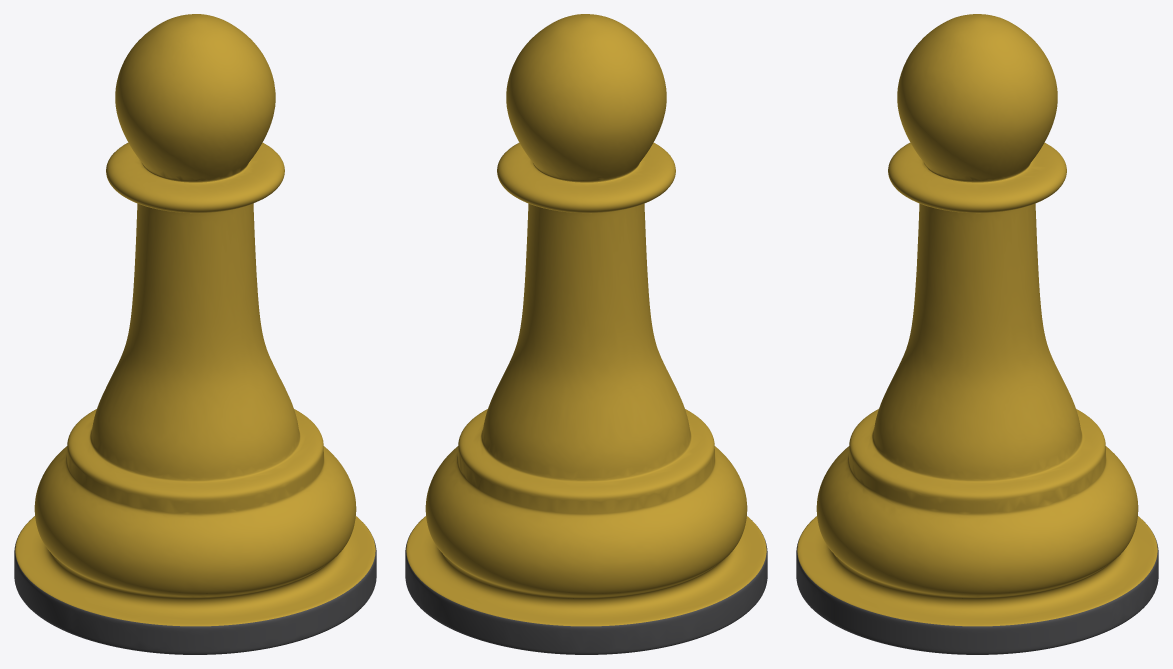
File: chess.glb
3 renders of one model, left to right at view 1: azimuth 30°, elevation 25°; view 2: azimuth 150°, elevation 25°; view 3: azimuth 270°, elevation 25°, orthographic.
Parts seen in each view (by area): view 1: Circle.004; view 2: Circle.004; view 3: Circle.004.
Part boxes in pixels (x1,y1,x2,y2): Circle.004: (14,14,376,654); Circle.004: (405,14,767,654); Circle.004: (796,14,1158,654).
Bounding box in the file's own units: 1.14 × 1.94 × 1.14.
